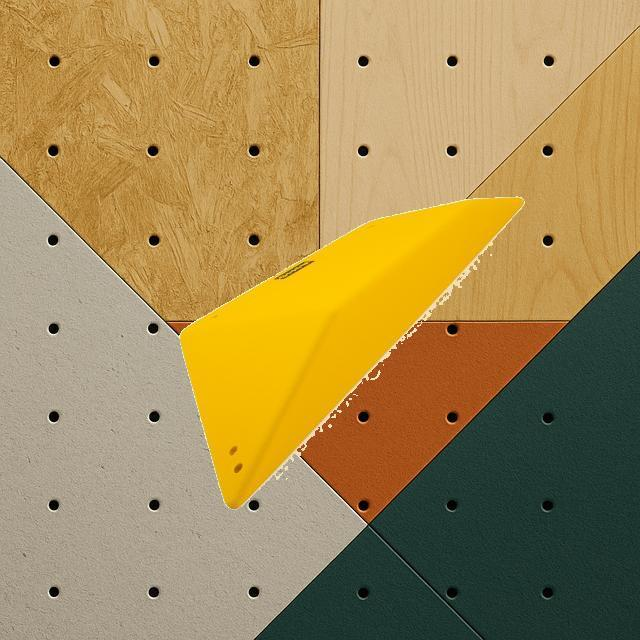Volume: (178, 195, 524, 511)
